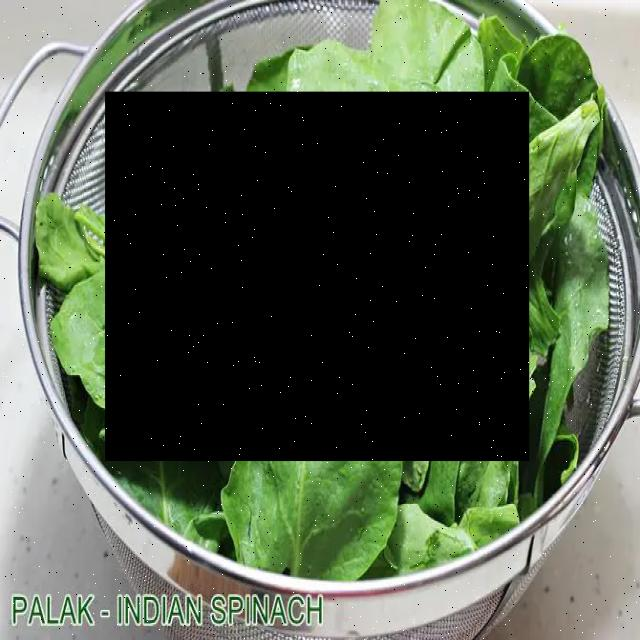Palak: (106, 93, 530, 462)
